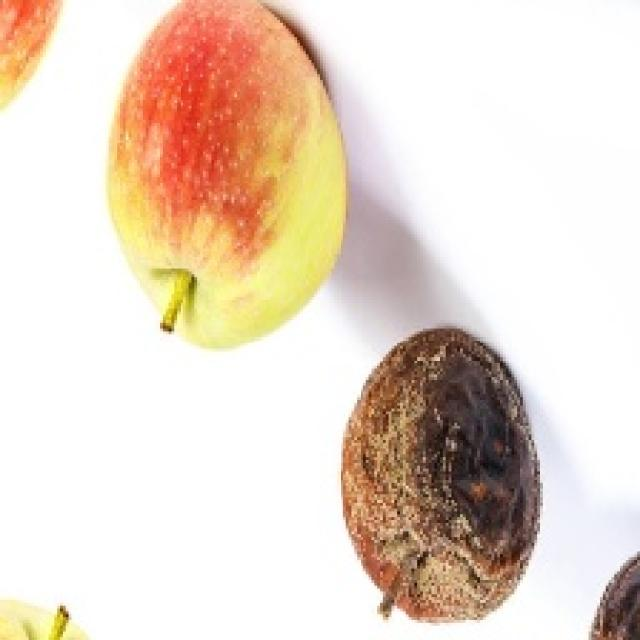rotten_apple: (343, 329, 540, 616)
